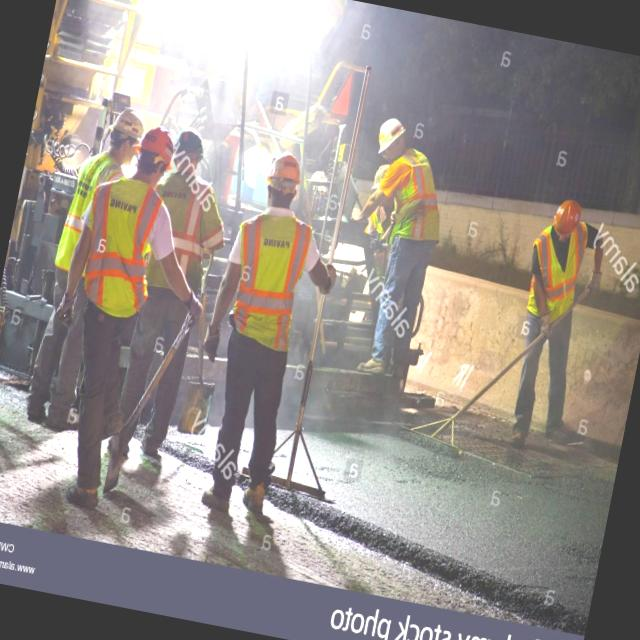helmet: (257, 144, 314, 200), (132, 120, 185, 175), (103, 104, 150, 148), (374, 114, 414, 165), (544, 192, 588, 235)
vest: (70, 168, 176, 326), (218, 200, 320, 360), (372, 144, 461, 256), (160, 165, 228, 306), (519, 224, 594, 338), (50, 150, 115, 273)
